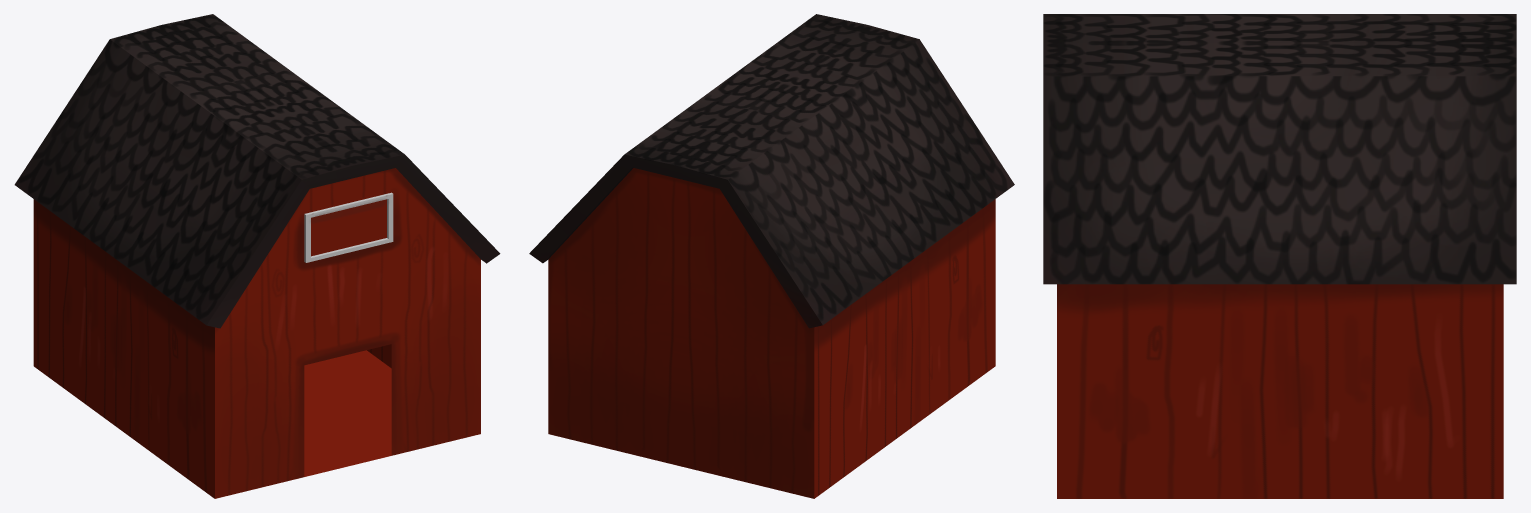
File: Barn.fbx
The picture shows the model from 3 angles, left to right: view 1: azimuth 30°, elevation 25°; view 2: azimuth 150°, elevation 25°; view 3: azimuth 270°, elevation 25°; orthographic projection. The views are drawn at different scales.
Visible parts, largest first — view 1: Barn; view 2: Barn; view 3: Barn.
Part boxes in pixels (x1,y1,x2,y2): Barn: (14,14,500,498); Barn: (529,14,1014,498); Barn: (1043,14,1516,498).
Size of the model in its own units: 1014 by 1005 by 1147.
Materials: 1 (1 with a texture image).
